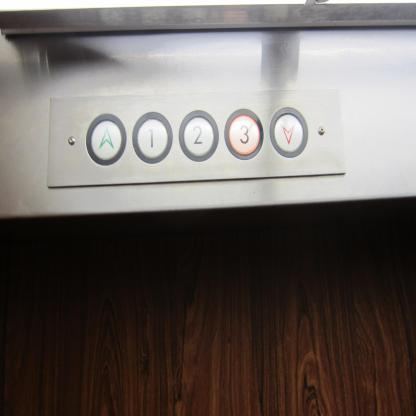1: (131, 112, 173, 166)
2: (178, 110, 220, 162)
3: (223, 108, 264, 160)
down: (270, 106, 309, 158)
up: (86, 113, 127, 166)
